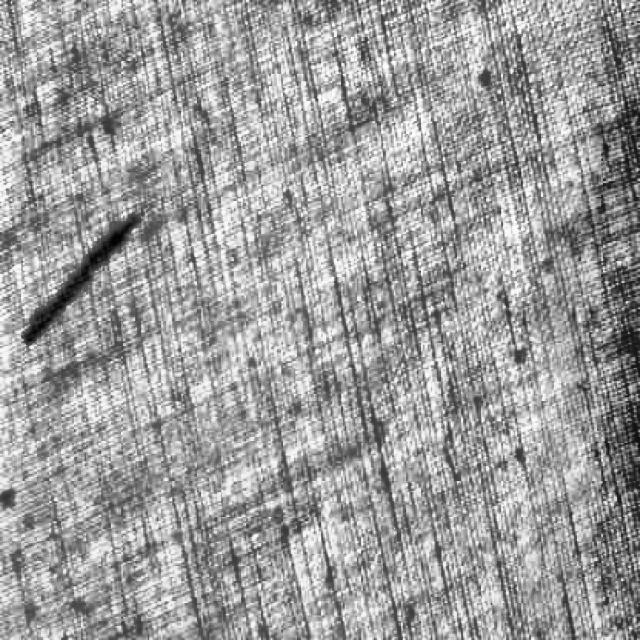oil_spot: (13, 197, 154, 355)
